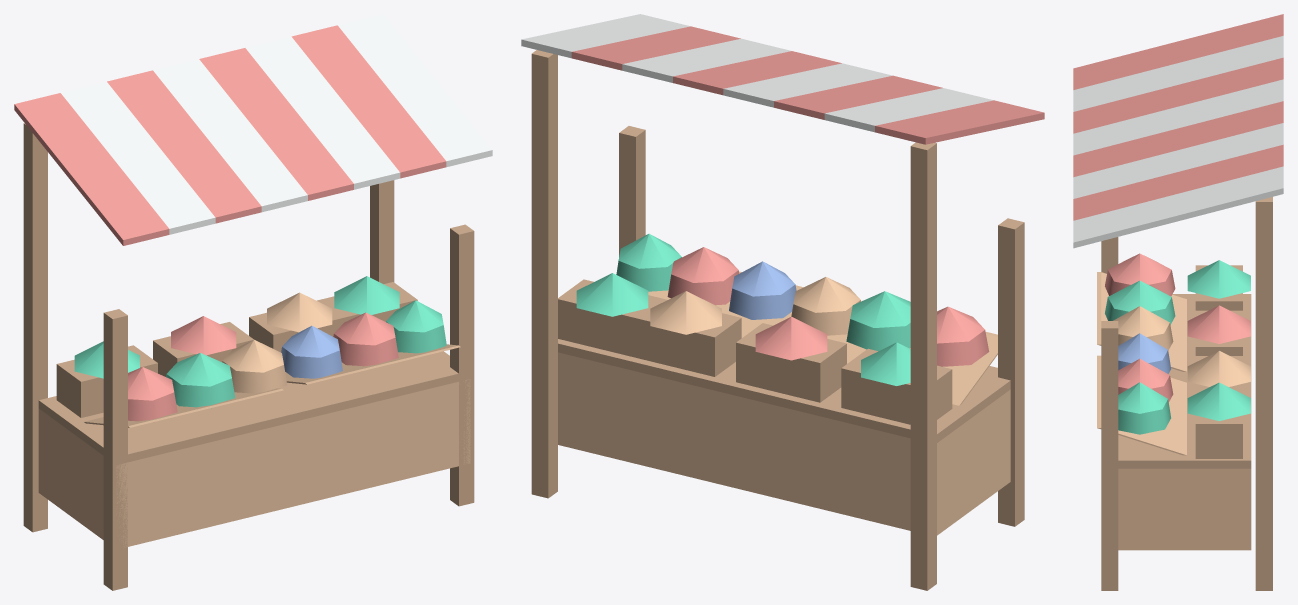
Rendered from produceStand.glb.
3 renders of one model, left to right at view 1: azimuth 30°, elevation 25°; view 2: azimuth 150°, elevation 25°; view 3: azimuth 270°, elevation 25°, orthographic. The views are drawn at different scales.
Parts seen in each view (by area): view 1: produceStand; view 2: produceStand; view 3: produceStand.
Part boxes in pixels (x1,y1,x2,y2): produceStand: (14,14,492,590); produceStand: (521,14,1044,590); produceStand: (1073,14,1283,590).
Bounding box in the file's own units: 0.96 × 1.04 × 0.49.
